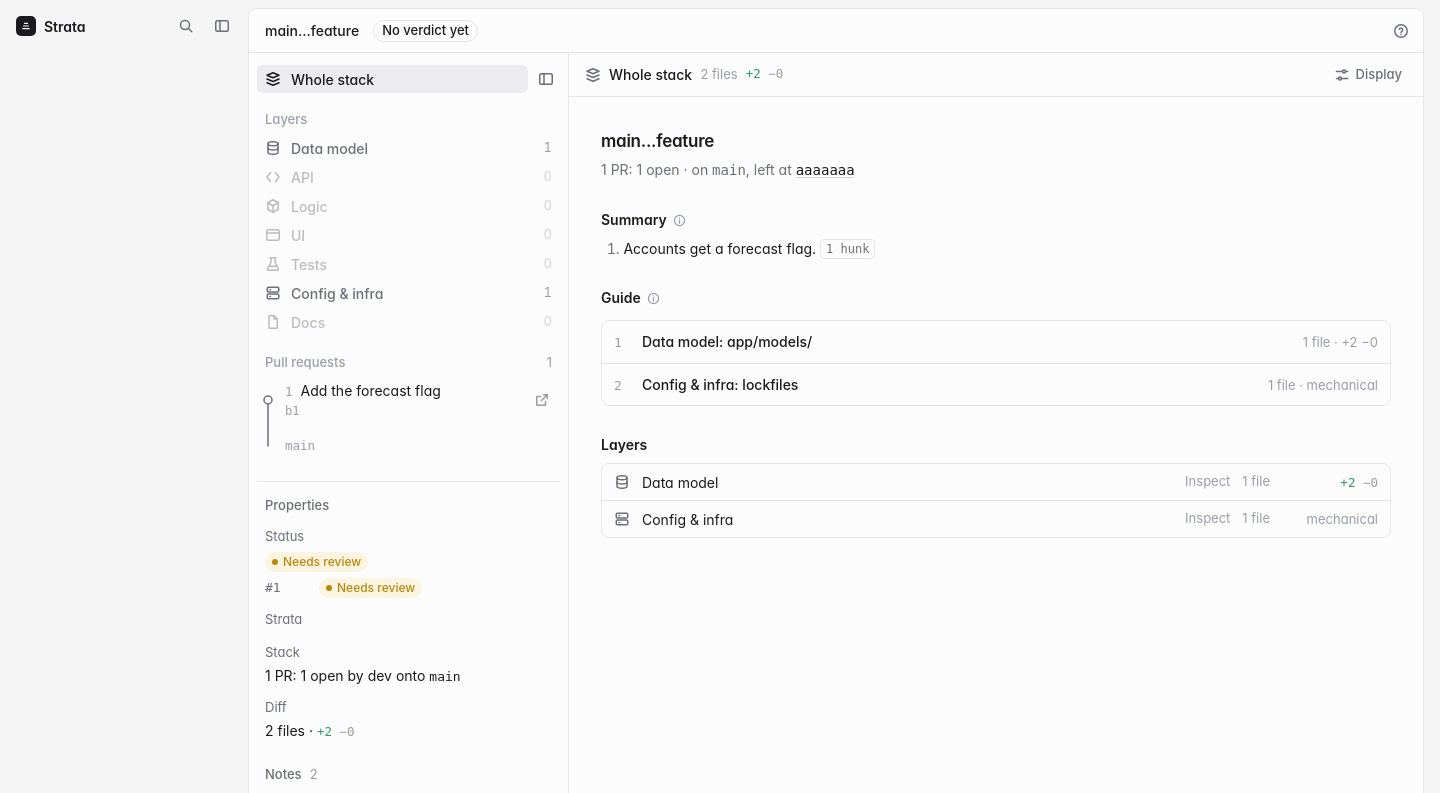
it: Workspace › opens a matrix cell's file in that PR's scope and layer
Press m
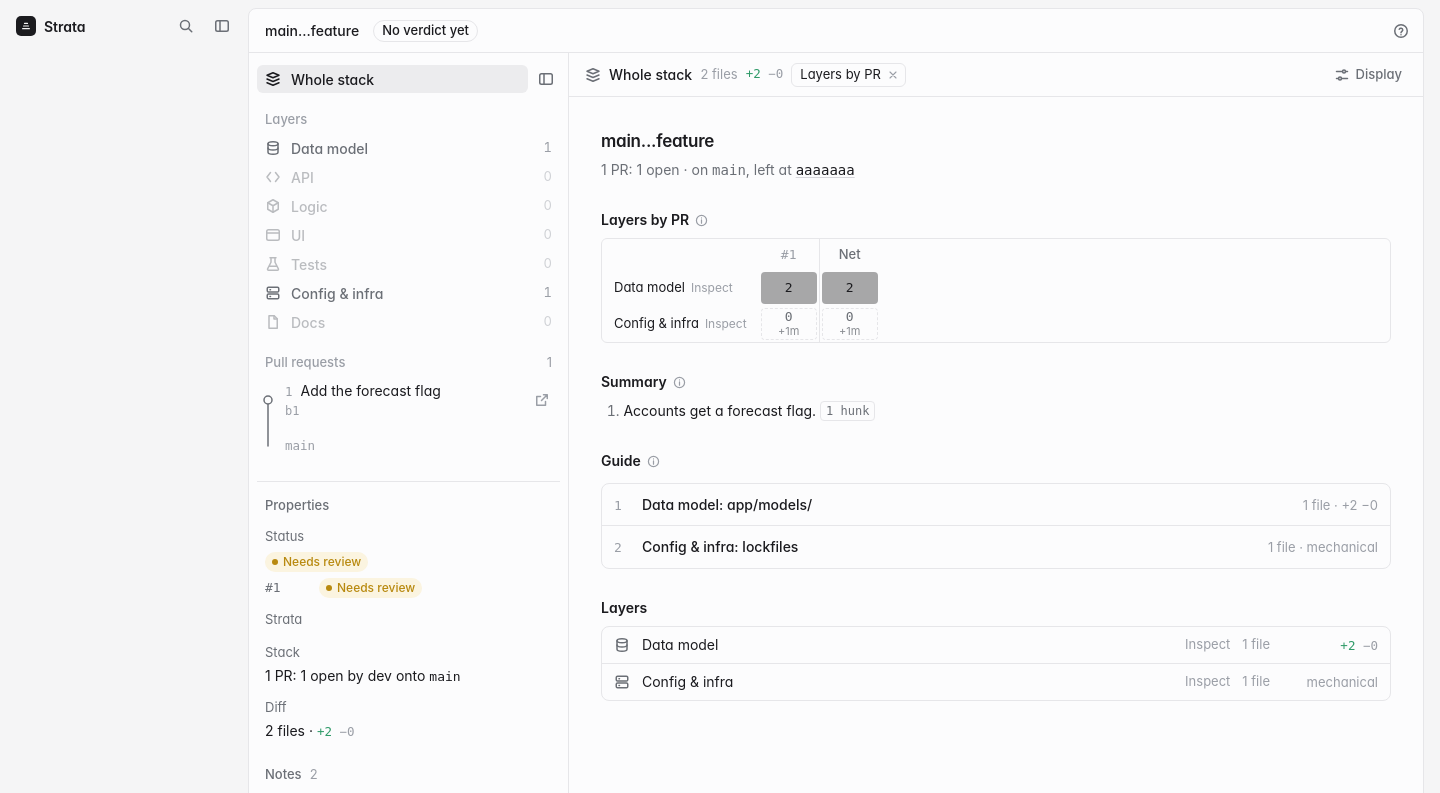
Click the 1st button "2".
click(789, 288)  # box [761,272,817,304]
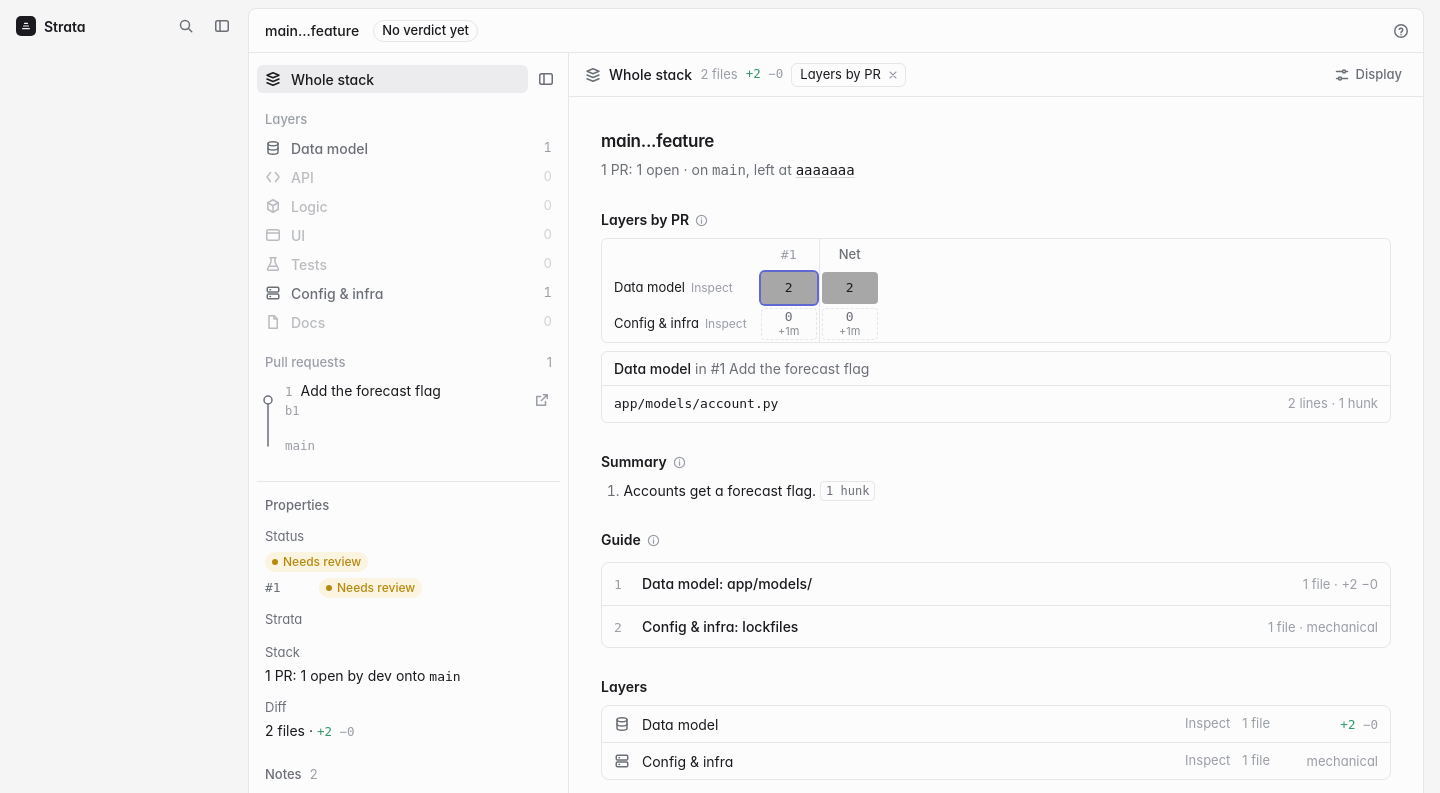
Click the link "app/models/account.py 2 lines · 1 hunk".
click(696, 404)  # box [614,395,1378,411]
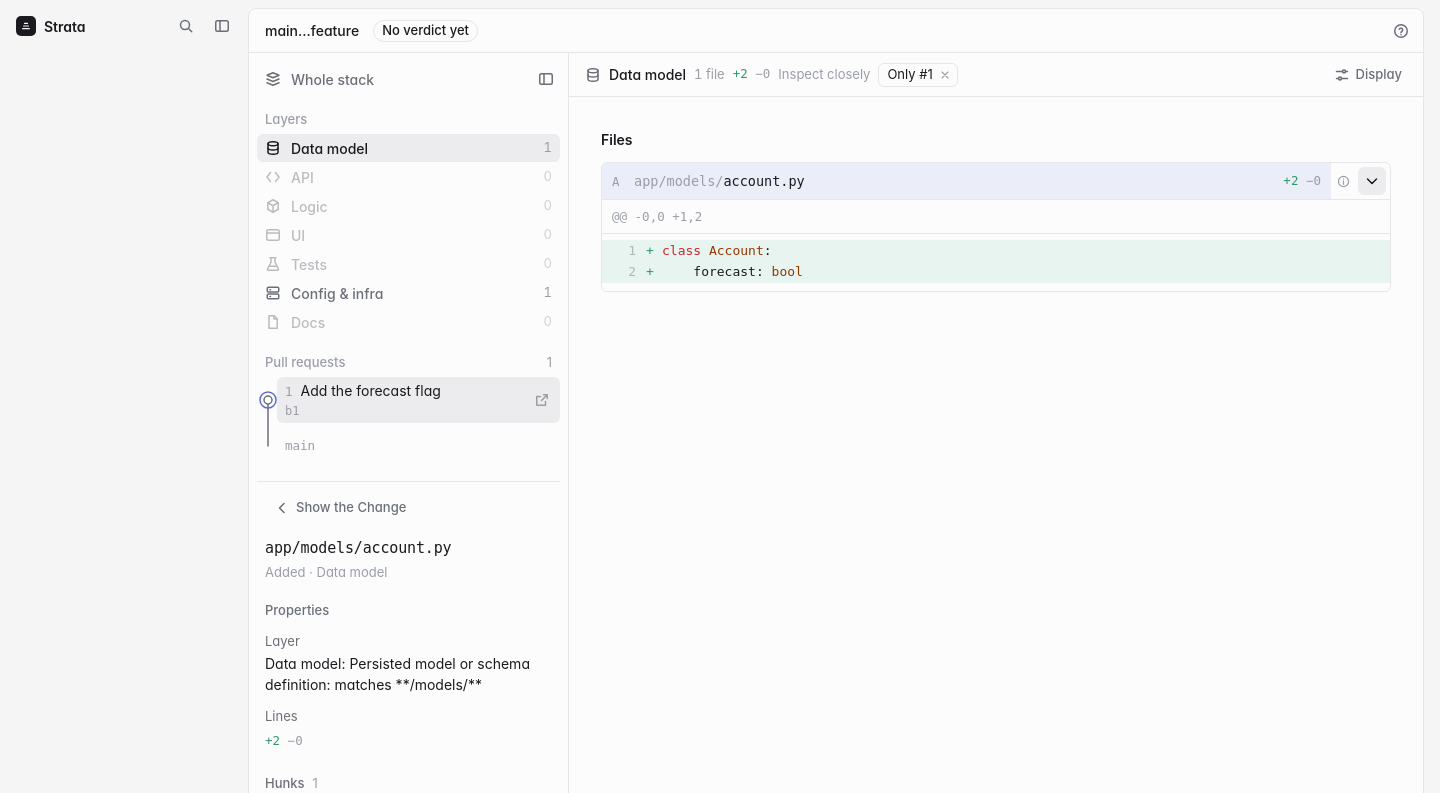
Result: the heading "Data model" is shown at [585,64,686,85]
Result: the element showing "Data model 1 file +2 −0 Inspect closely Only #1 Display" is shown at [569,53,1423,97]
Result: the heading "app/models/account.py" is shown at [265,539,452,557]
